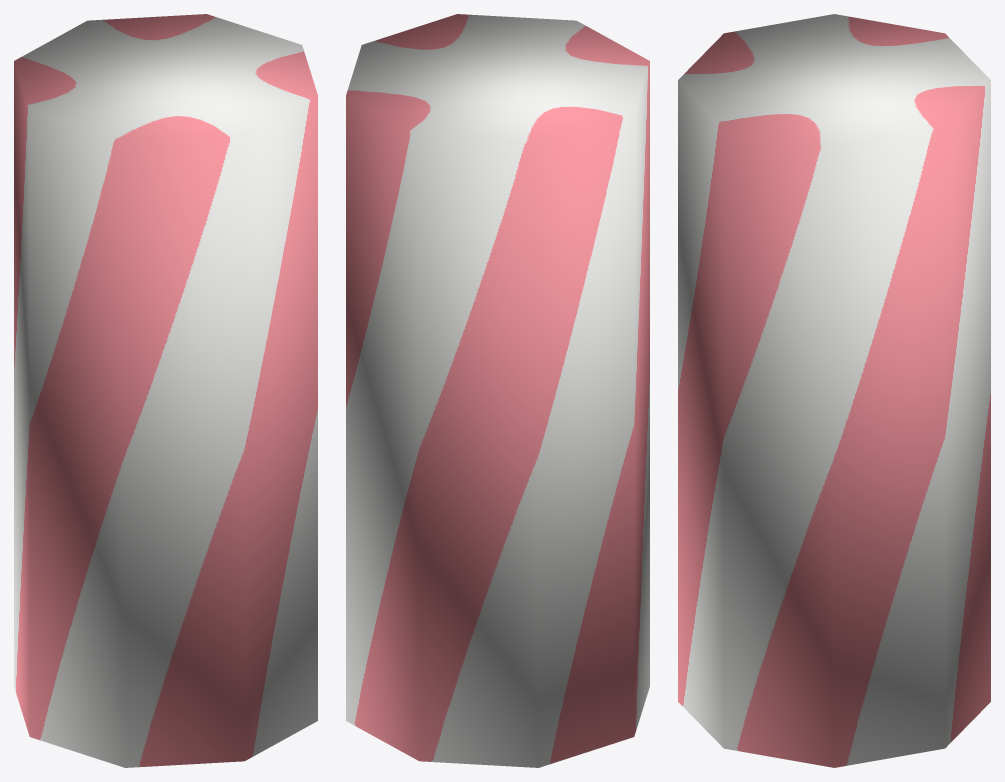
Rendered from TwistyMellow.fbx.
3 renders of one model, left to right at view 1: azimuth 30°, elevation 25°; view 2: azimuth 150°, elevation 25°; view 3: azimuth 270°, elevation 25°, orthographic.
Parts seen in each view (by area): view 1: twistyCyl; view 2: twistyCyl; view 3: twistyCyl.
Boxes of the visible parts, x1,y1,x2,y2 form: twistyCyl: (14,14,317,767); twistyCyl: (346,14,649,767); twistyCyl: (678,14,990,767).
Size of the model in its own units: 274 by 600 by 274.
